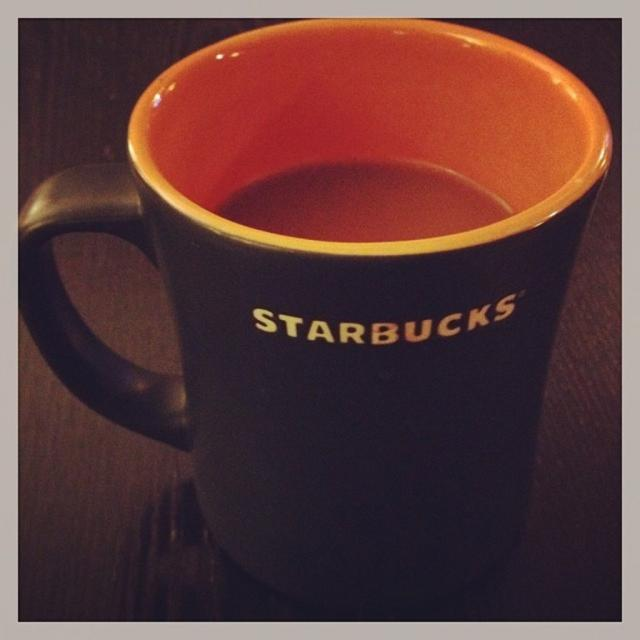Coffee: (211, 152, 514, 247)
